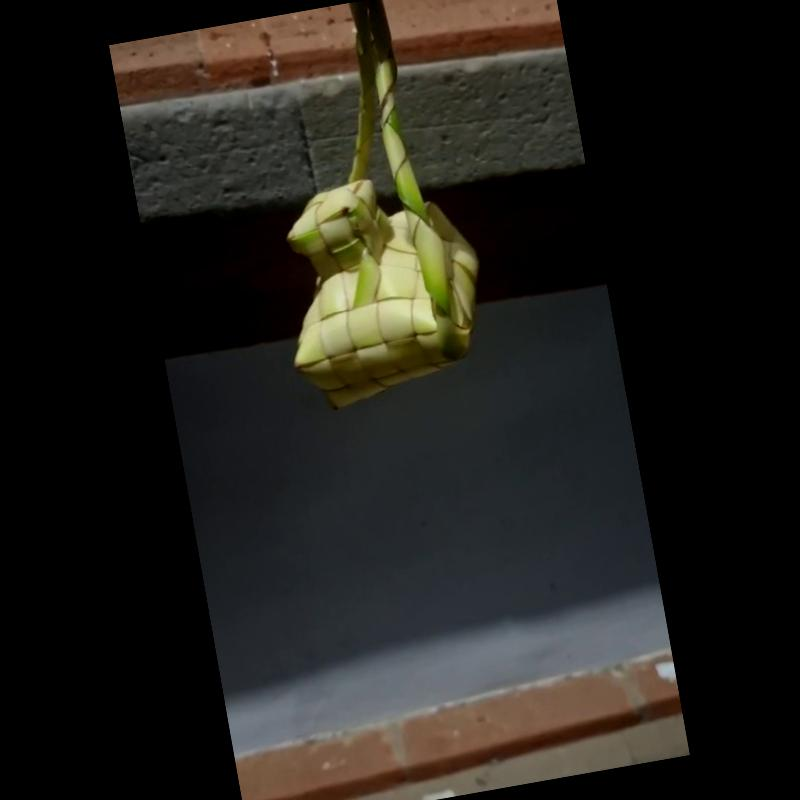Tipat Gong: (290, 0, 477, 410)
